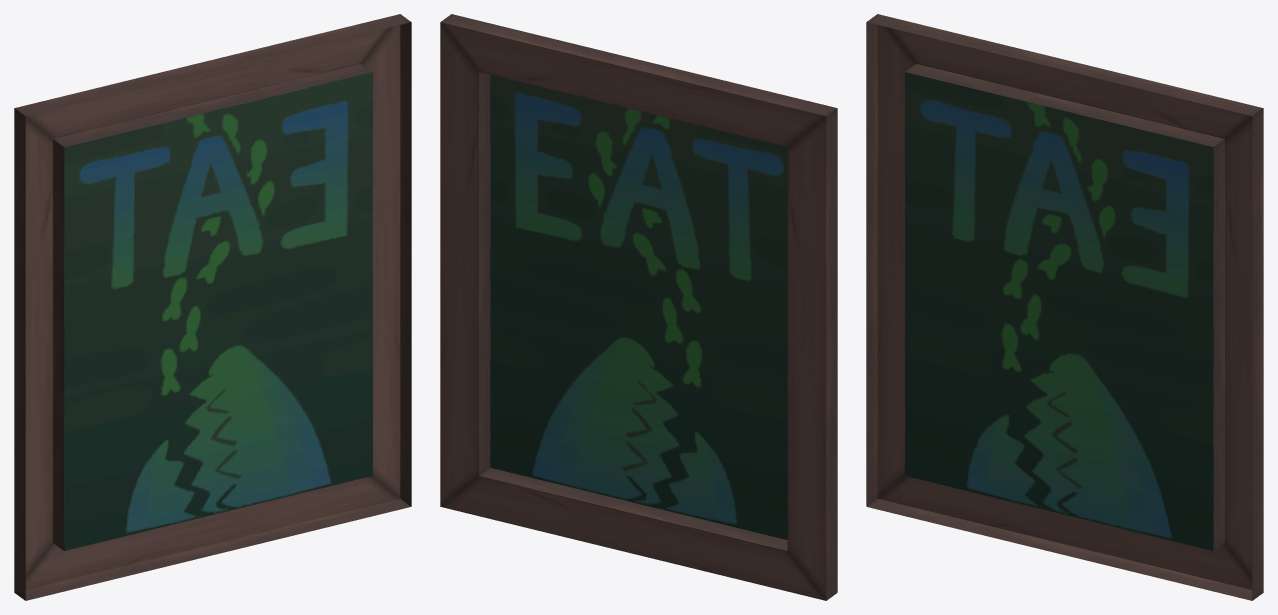
The model's file is medium_painting_4.fbx.
The picture shows the model from 3 angles, left to right: view 1: azimuth 30°, elevation 25°; view 2: azimuth 150°, elevation 25°; view 3: azimuth 330°, elevation 25°; orthographic projection.
Visible parts, largest first — view 1: medium_painting_4; view 2: medium_painting_4; view 3: medium_painting_4.
Boxes of the visible parts, box(x1,y1,x2,y2) form: medium_painting_4: box(14, 14, 411, 600); medium_painting_4: box(440, 14, 837, 600); medium_painting_4: box(866, 14, 1263, 600).
Bounding box in the file's own units: 2 × 0.1 × 2.4.
